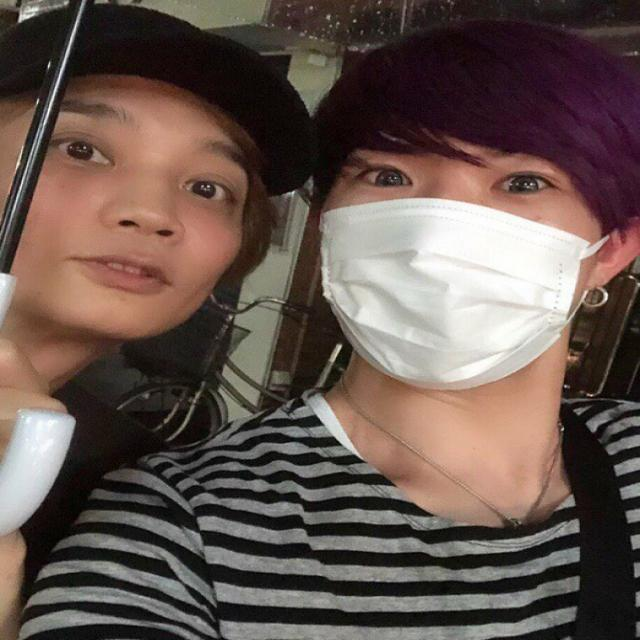hat: (4, 7, 300, 185)
